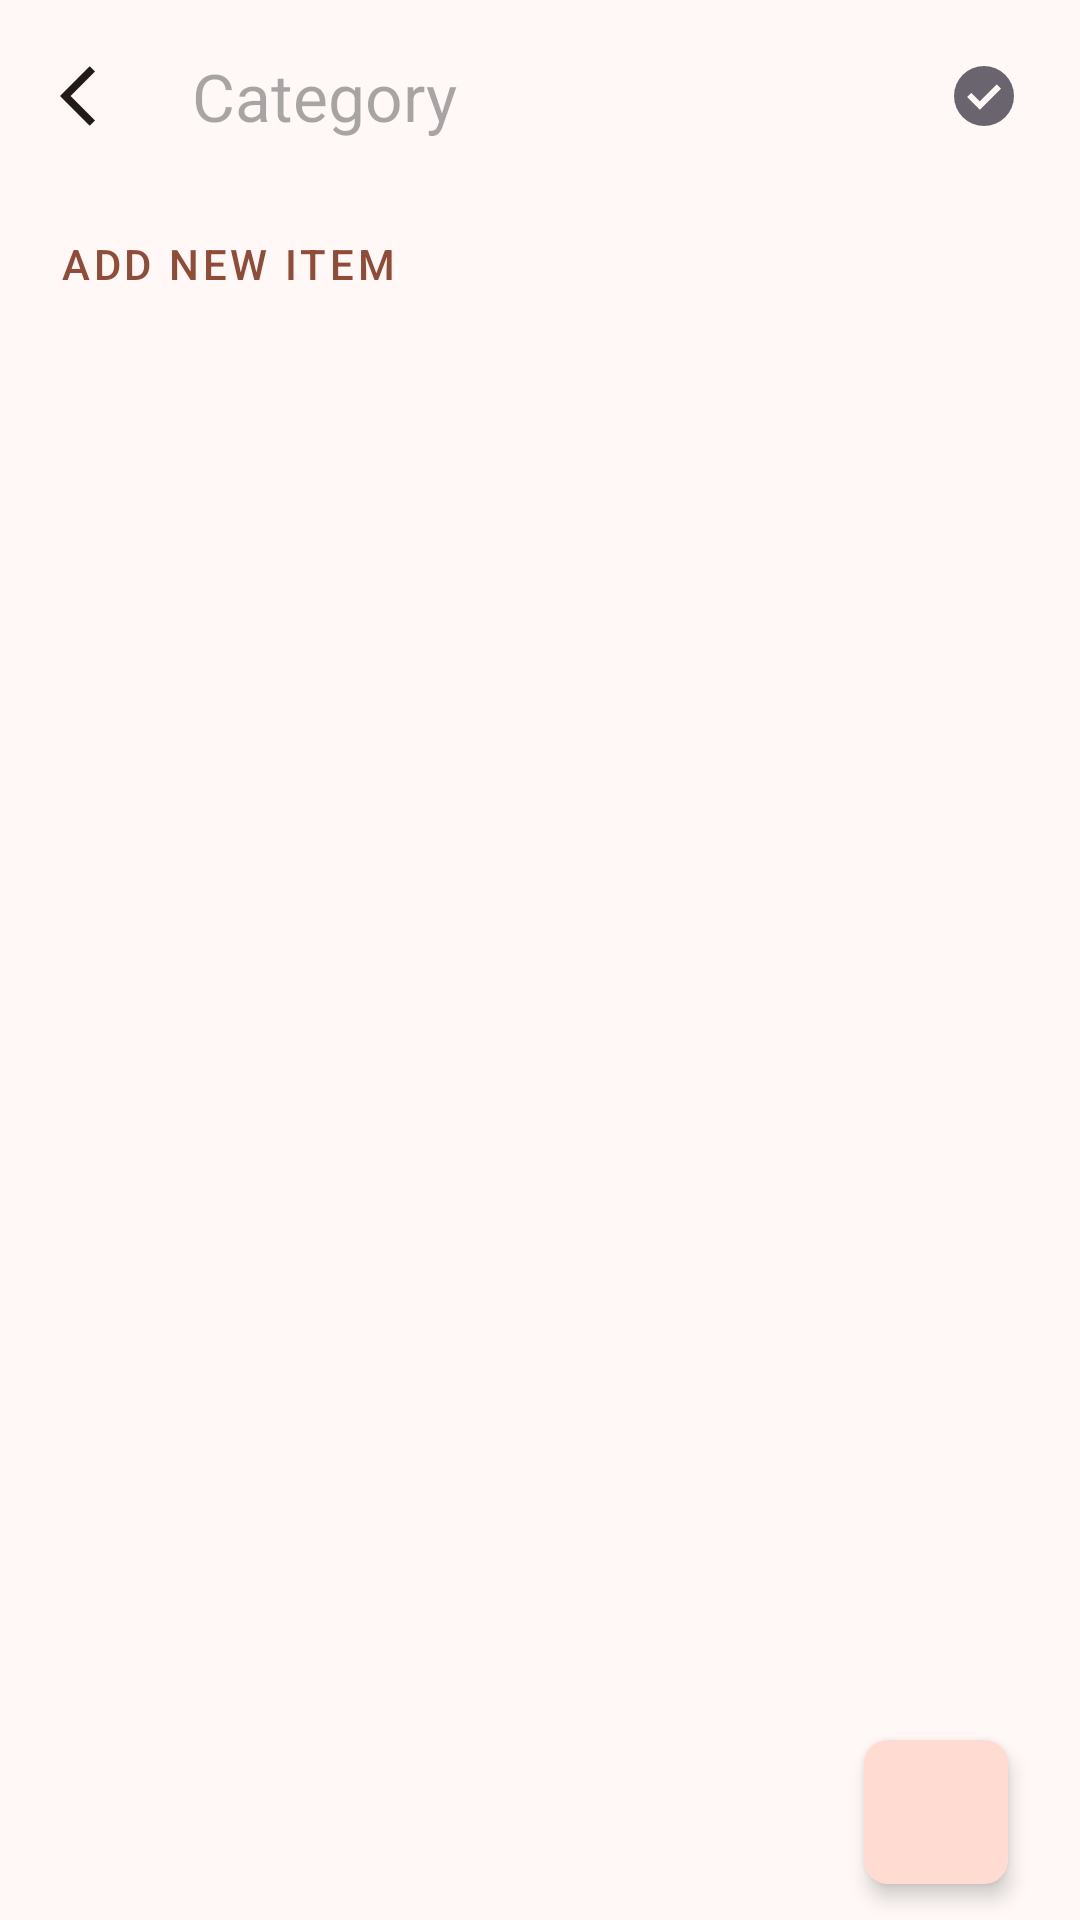

Screen size 1080x1920. Icon name, then its center in pixels as point (x, y):
back button: point (77, 96)
save button: point (984, 96)
